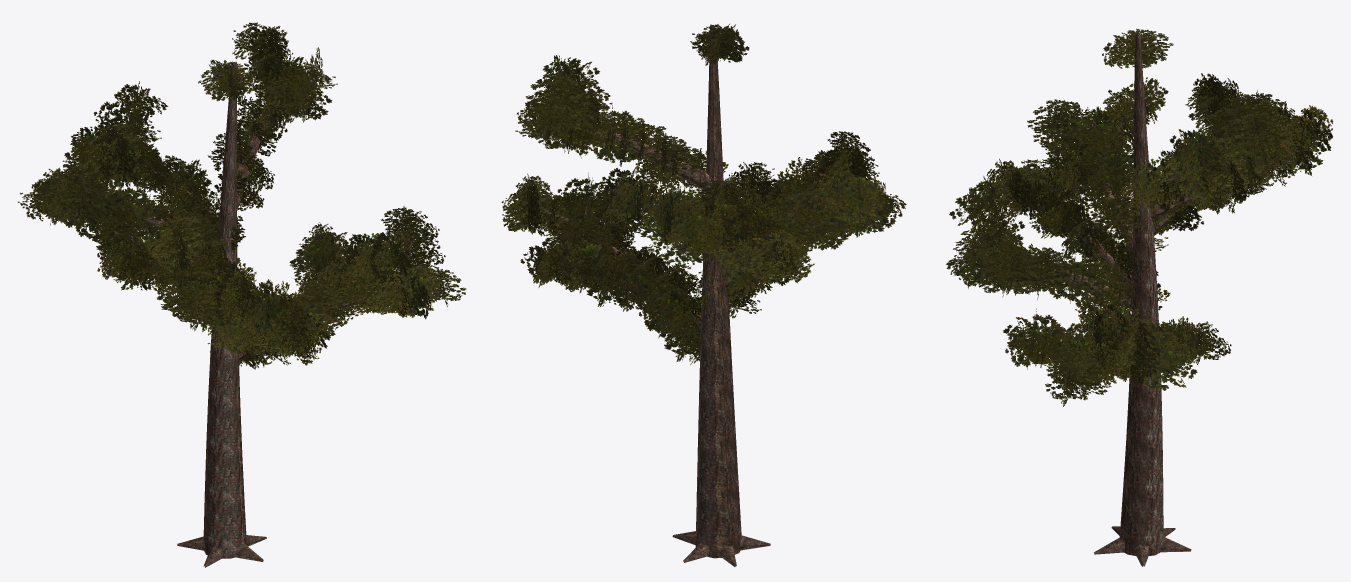
Rendered from tree_3d_05_lod0.glb.
The picture shows the model from 3 angles, left to right: view 1: azimuth 30°, elevation 25°; view 2: azimuth 150°, elevation 25°; view 3: azimuth 270°, elevation 25°; orthographic projection. The views are drawn at different scales.
Parts seen in each view (by area): view 1: foliage_cards, wood_geometry; view 2: foliage_cards, wood_geometry; view 3: foliage_cards, wood_geometry.
Boxes of the visible parts, <box> form: foliage_cards: <box>18,22,466,369</box>; wood_geometry: <box>90,52,414,567</box>; foliage_cards: <box>501,24,906,364</box>; wood_geometry: <box>546,25,853,566</box>; foliage_cards: <box>946,28,1333,406</box>; wood_geometry: <box>981,35,1304,566</box>.
Size of the model in its own units: 11.23 by 14.66 by 10.09.
2 materials, 2 textured.
